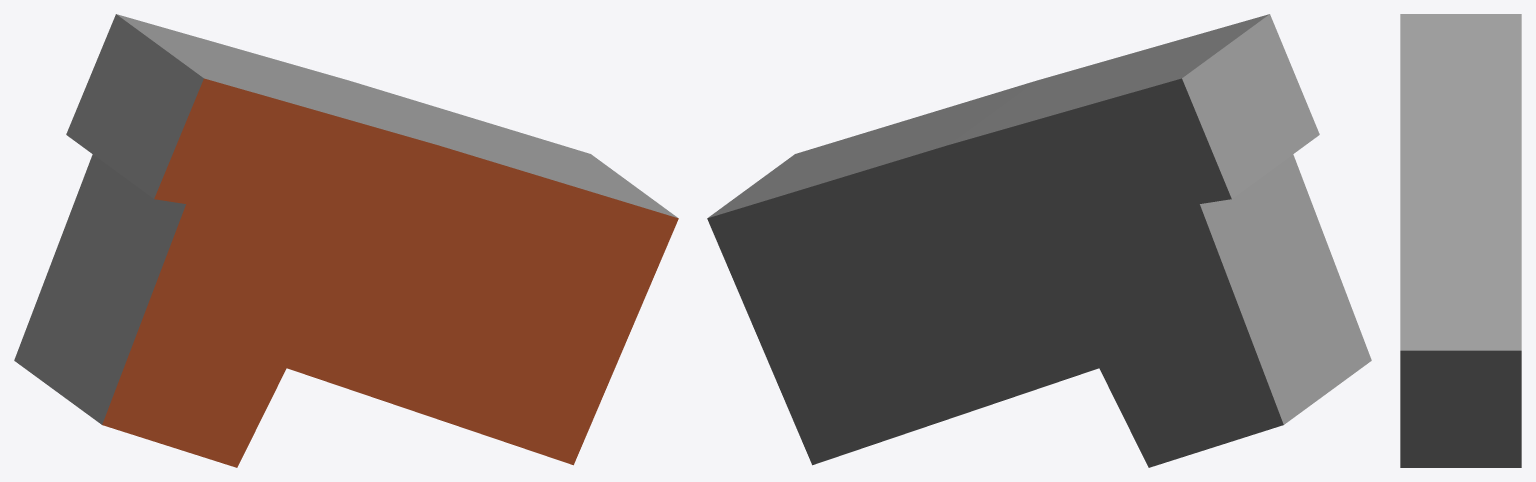
The model's file is construction_5182_assumed_A_Casa_h6m.obj.
The picture shows the model from 3 angles, left to right: view 1: azimuth 30°, elevation 25°; view 2: azimuth 150°, elevation 25°; view 3: azimuth 270°, elevation 25°; orthographic projection. The views are drawn at different scales.
Visible parts, largest first — view 1: construction_5182_assumed_A_Casa; view 2: construction_5182_assumed_A_Casa; view 3: construction_5182_assumed_A_Casa.
Part boxes in pixels (left/top/right/bottom): construction_5182_assumed_A_Casa: left=14, top=14, right=678, bottom=467; construction_5182_assumed_A_Casa: left=707, top=14, right=1371, bottom=467; construction_5182_assumed_A_Casa: left=1400, top=14, right=1521, bottom=467.
Size of the model in its own units: 22.7 by 17.94 by 6.
